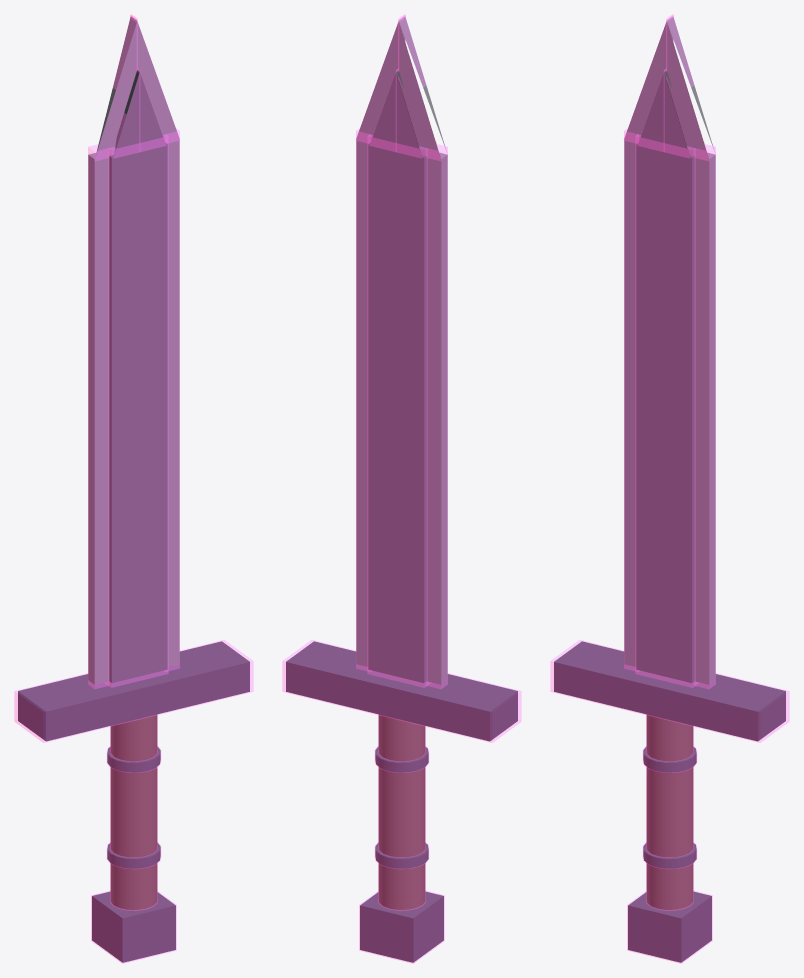
The picture shows the model from 3 angles, left to right: view 1: azimuth 30°, elevation 25°; view 2: azimuth 150°, elevation 25°; view 3: azimuth 330°, elevation 25°; orthographic projection.
Visible parts, largest first — view 1: rank-bipolar-b; view 2: rank-bipolar-b; view 3: rank-bipolar-b.
Part boxes in pixels (bbox=[...]): rank-bipolar-b: bbox=[14, 14, 253, 963]; rank-bipolar-b: bbox=[282, 14, 521, 963]; rank-bipolar-b: bbox=[550, 14, 789, 963].
Bounding box in the file's own units: 0.2024 × 0.8551 × 0.0526.
